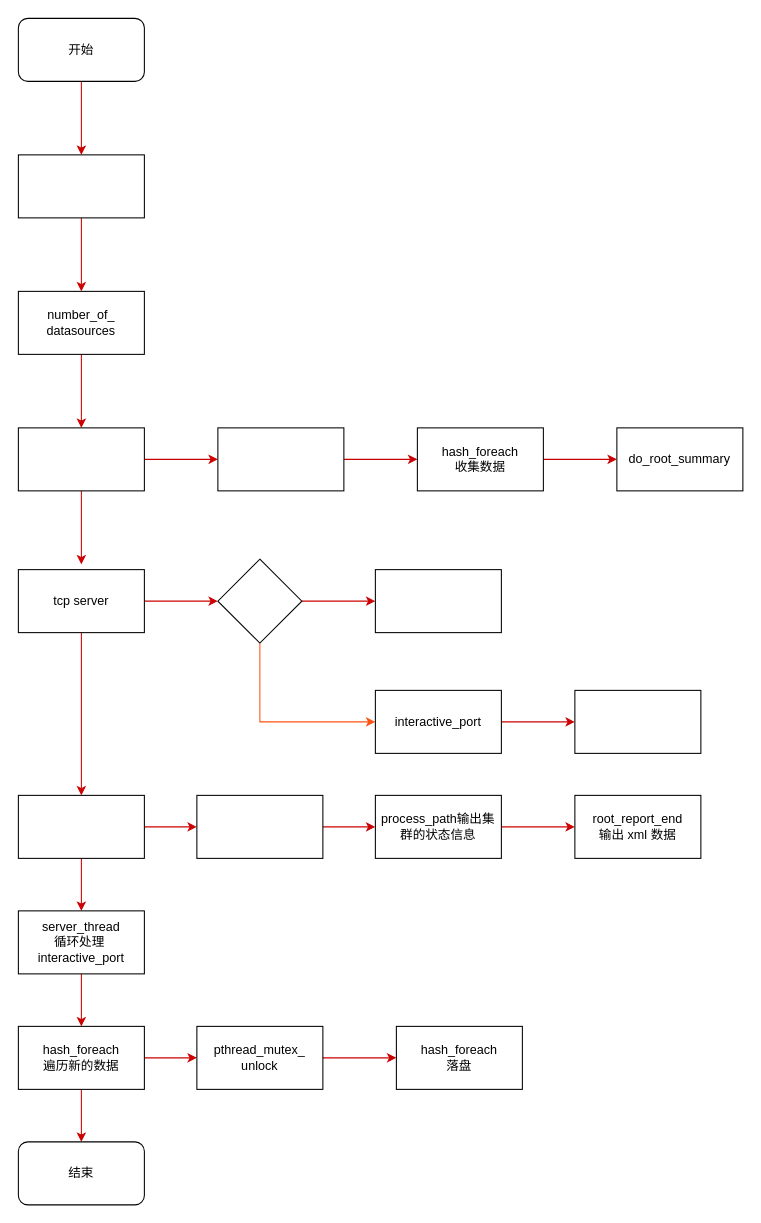
Image size: 761x1223. Some labels were removed from this diagram. The shapes that lost their labels are listed below. From the top down, each one's centre as x and y in pixels, then its label:
At (80,186): "main".
At (80,459): "for(;;)".
At (280,459): "random_sleep_factor 间隔采集".
At (437,601): "xml_port 落盘(用到一半的线程)".
At (637,721): "gweb".
At (80,826): "server_thread 循环处理 xml_port".
At (259,826): "root_report_start 输出 xml 数据".
